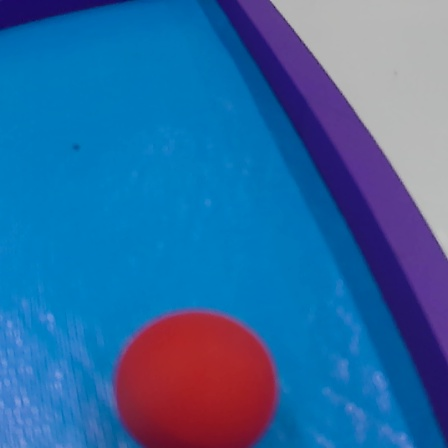blue_aim: (5, 3, 448, 448)
red: (118, 305, 285, 448)
